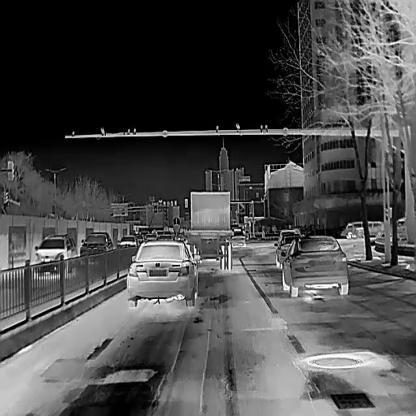car: (126, 240, 197, 306), (282, 236, 348, 296), (185, 190, 234, 270), (35, 233, 77, 267), (79, 232, 113, 256), (275, 235, 299, 269), (353, 218, 384, 237), (339, 219, 363, 239), (117, 234, 139, 249), (395, 216, 406, 237), (156, 234, 173, 240), (145, 233, 158, 240)
